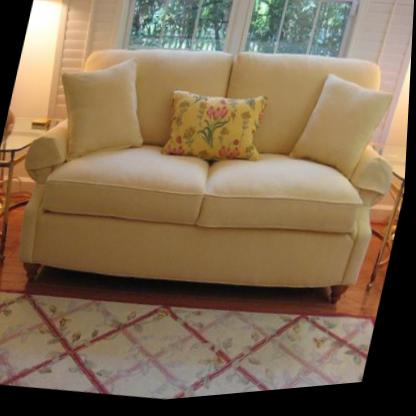Carpet: (0, 291, 378, 403)
Sofa: (0, 9, 414, 349)
